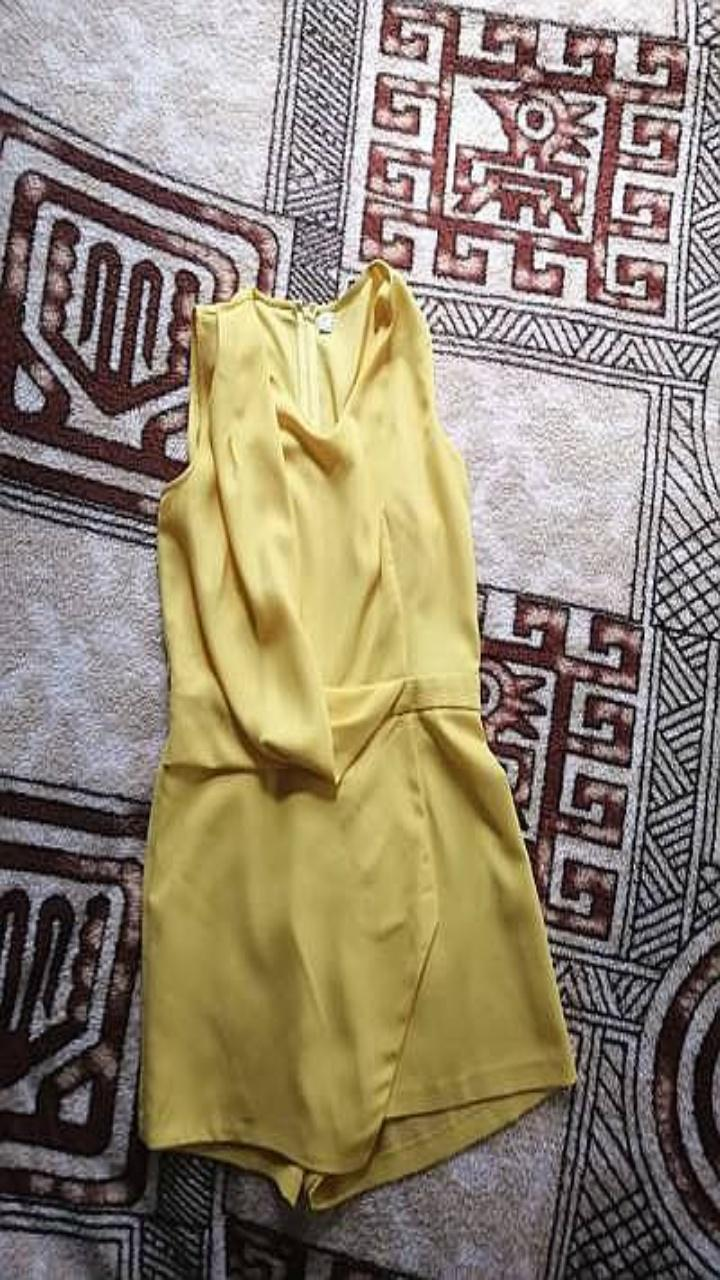Dresses: (141, 258, 574, 1207)
